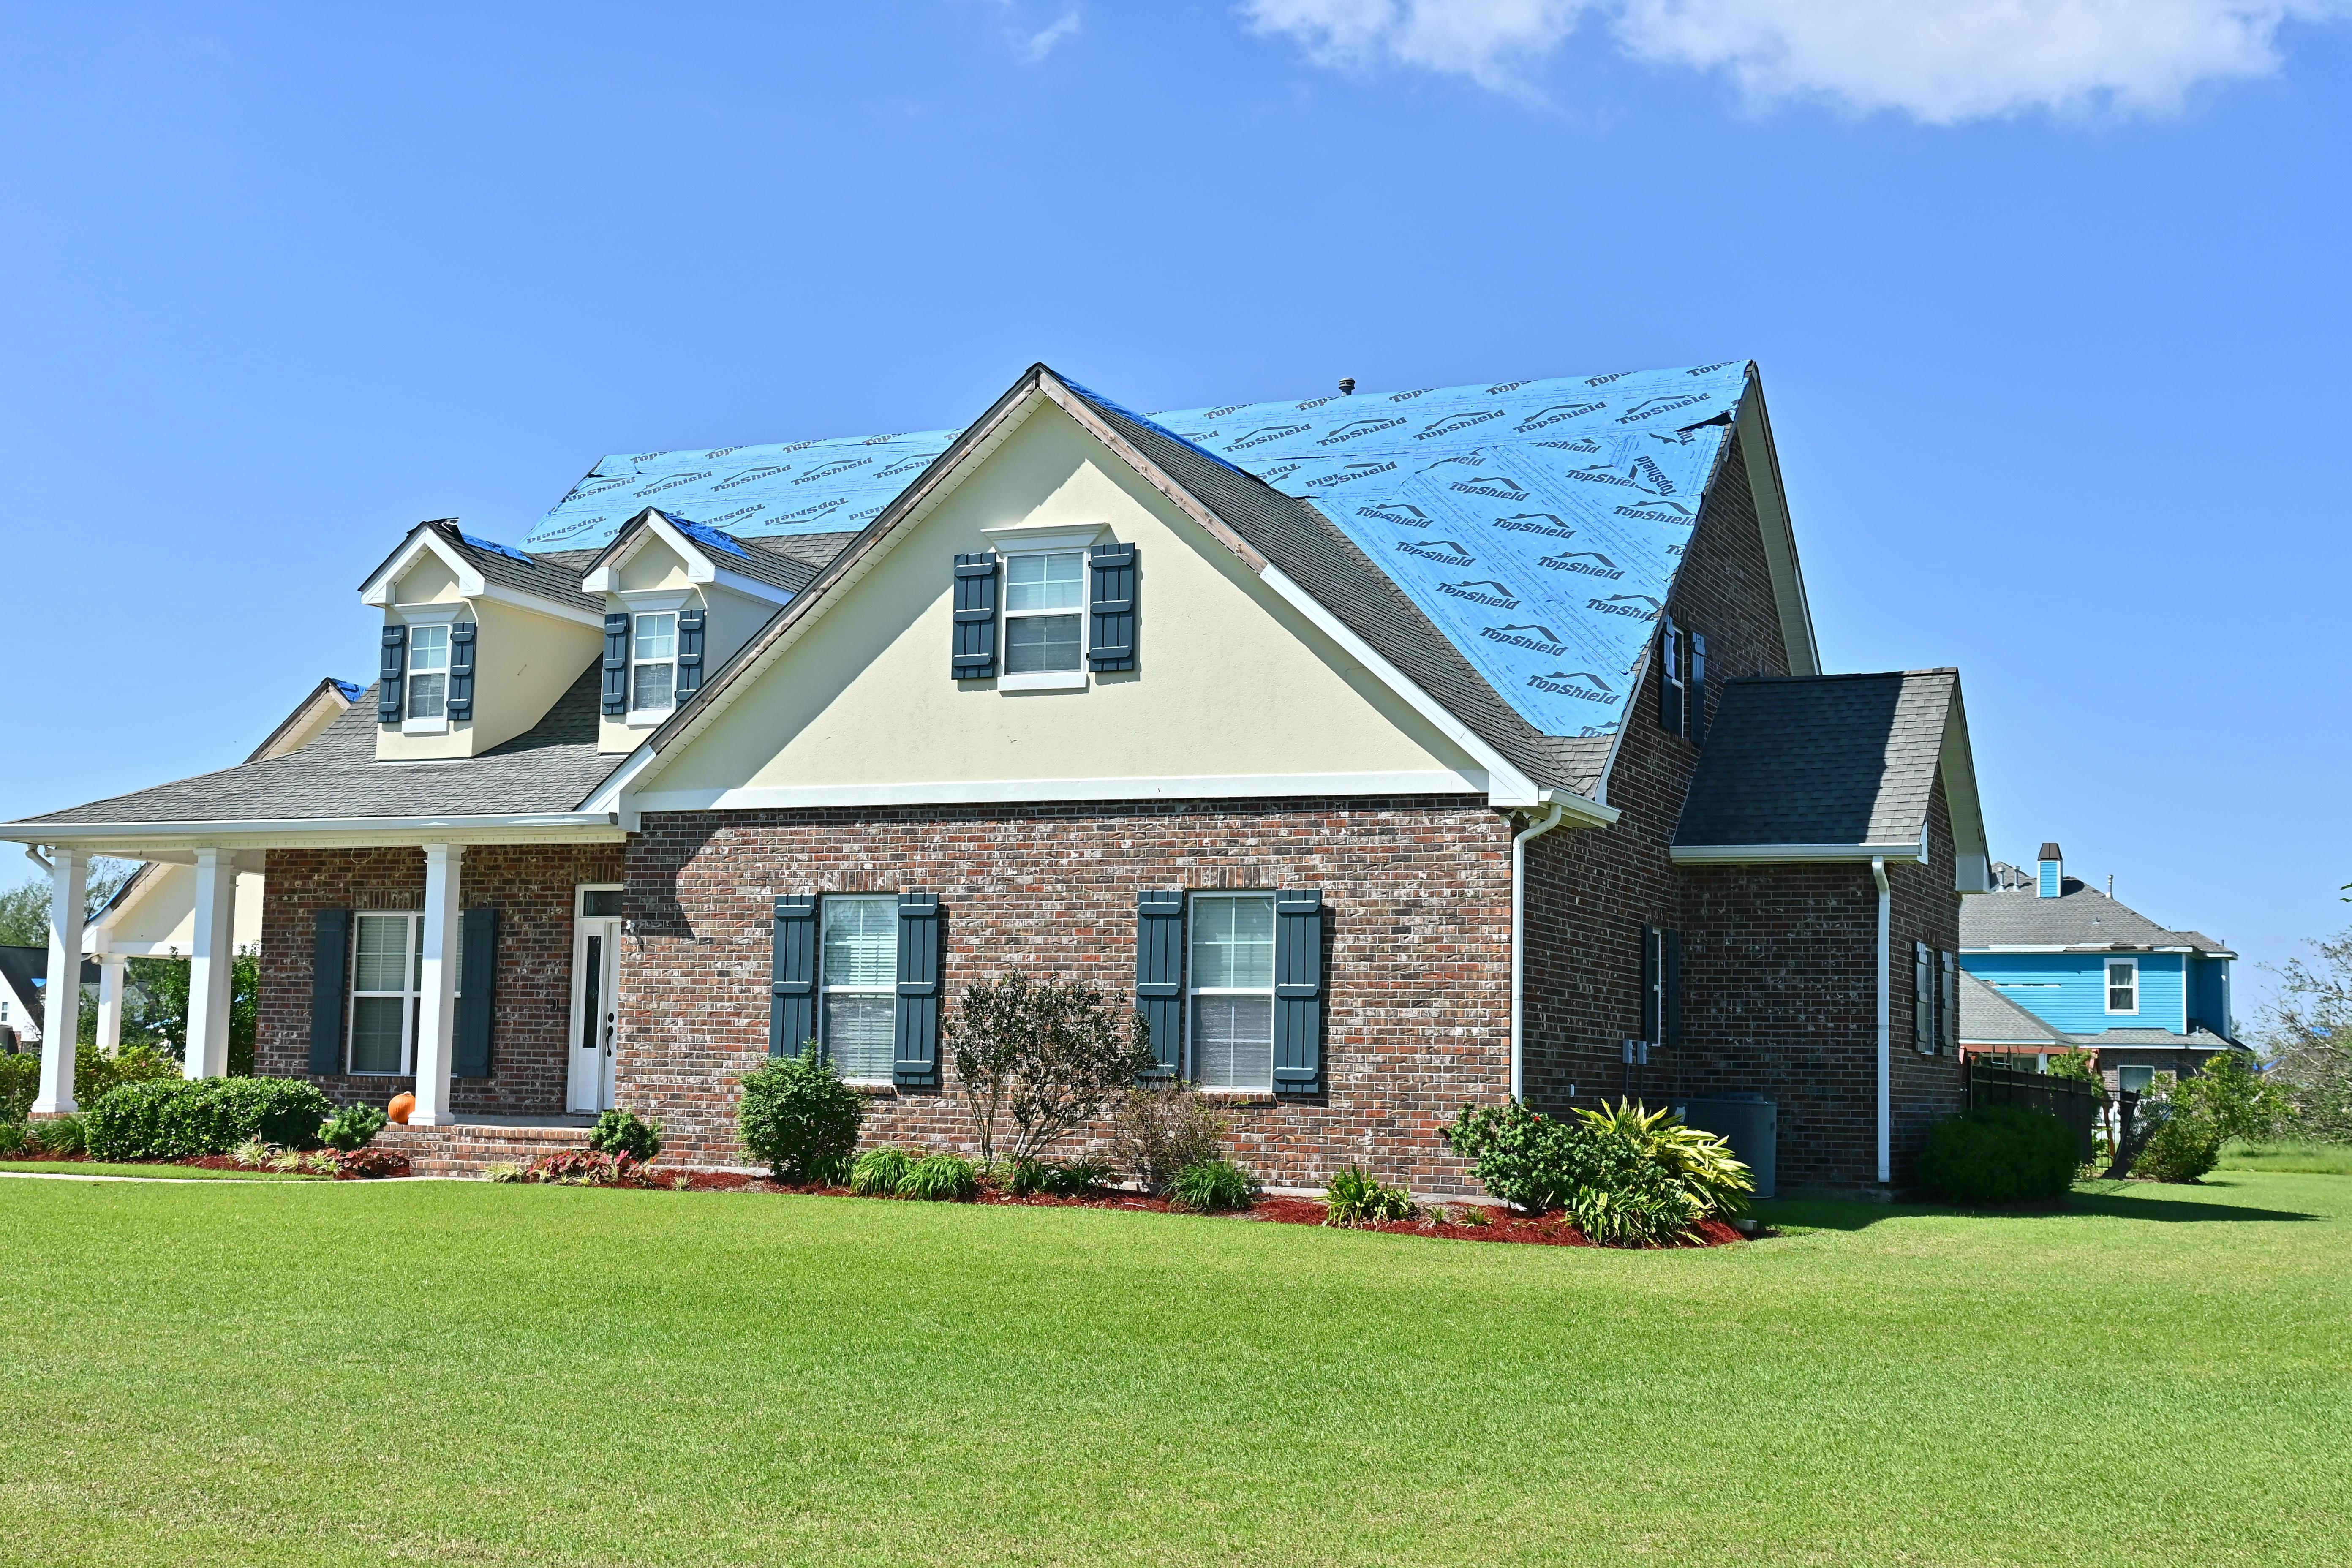affected: (103, 296, 2222, 1201)
